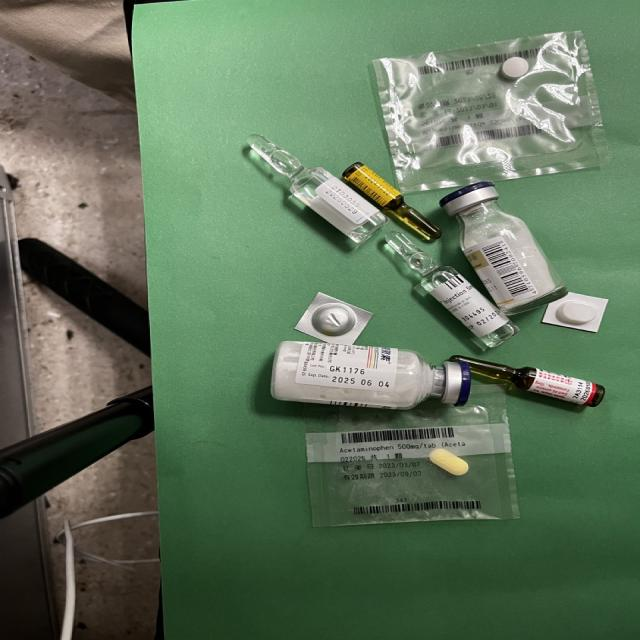Ampoules: (385, 231, 520, 348), (247, 135, 390, 244), (449, 355, 606, 408), (342, 162, 441, 240)
Vials: (441, 182, 568, 316), (270, 341, 471, 410)
